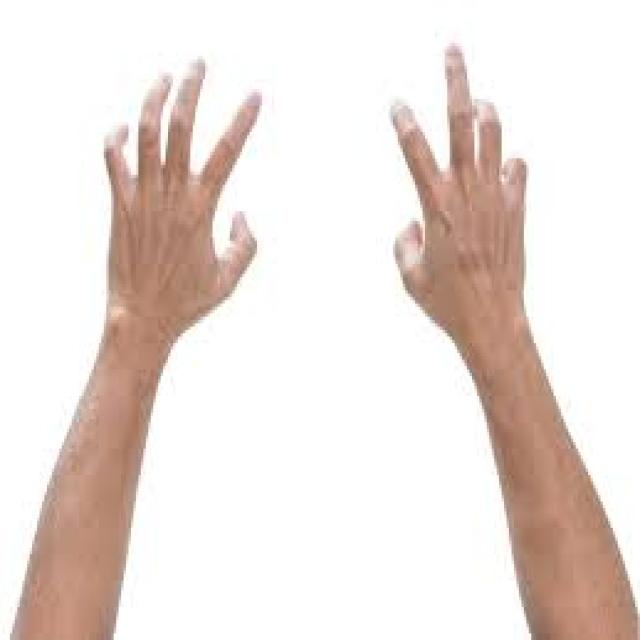Hand: (92, 46, 272, 356), (378, 35, 535, 359)
